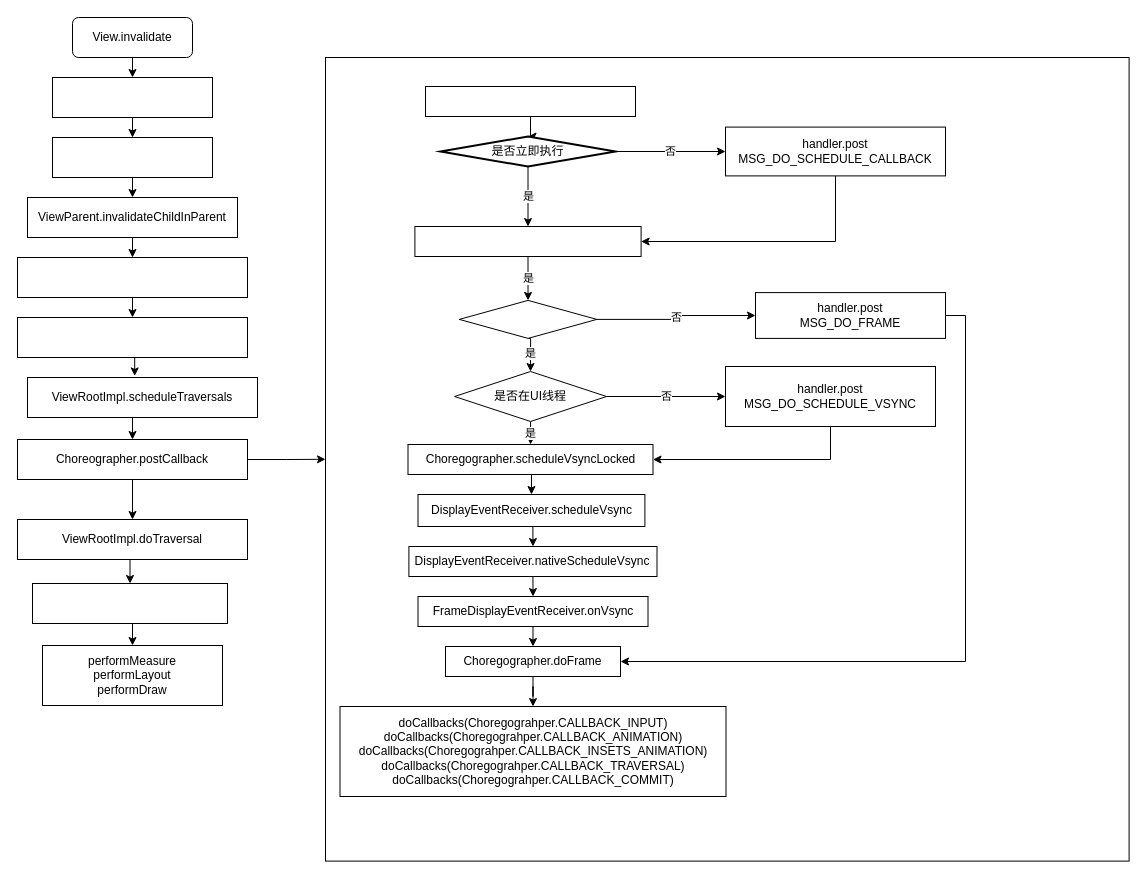
Some shapes in this 1147 by 879 pixel diagram are drawn without their labels. The shapes that lost their labels are listed below. From the top down, each one's centre as x and y in pixels, then its label:
(x=132, y=97): View.invalidateInternal
(x=530, y=101): Cherographer.postCallbakDelay
(x=132, y=157): ViewGroup.invalidateChild
(x=527, y=241): Choreographer.scheduleFrameLocked
(x=132, y=277): ViewRootImpl.invalidateChildInParent
(x=132, y=337): ViewRootImpl.invalidateRectOnScreen
(x=527, y=318): 是否使用垂直同步
(x=130, y=603): ViewRootImpl.performTraversal
